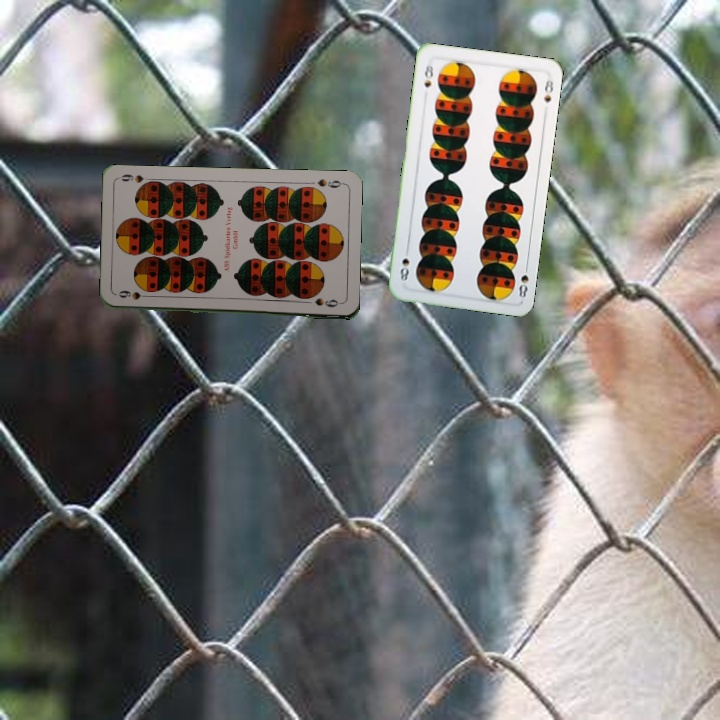S8: (515, 260, 533, 301), (420, 60, 436, 90)
S9: (115, 289, 155, 302), (313, 175, 346, 190)
